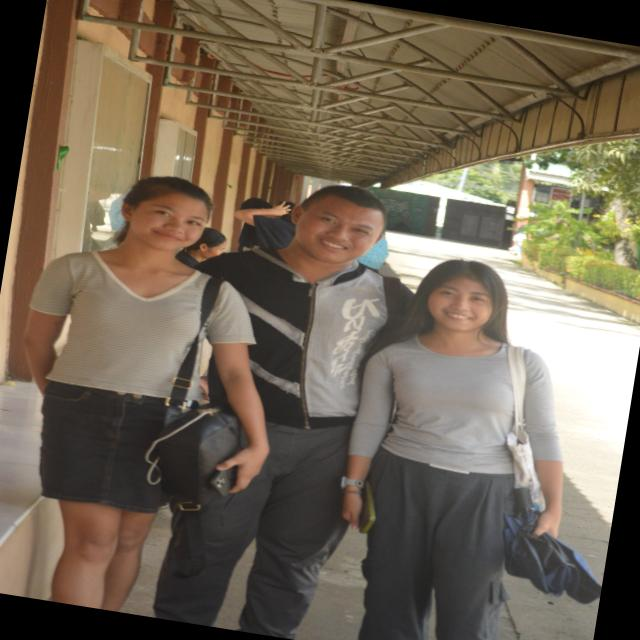person: (154, 186, 387, 638), (25, 177, 211, 611), (342, 260, 513, 639), (175, 227, 225, 268)
